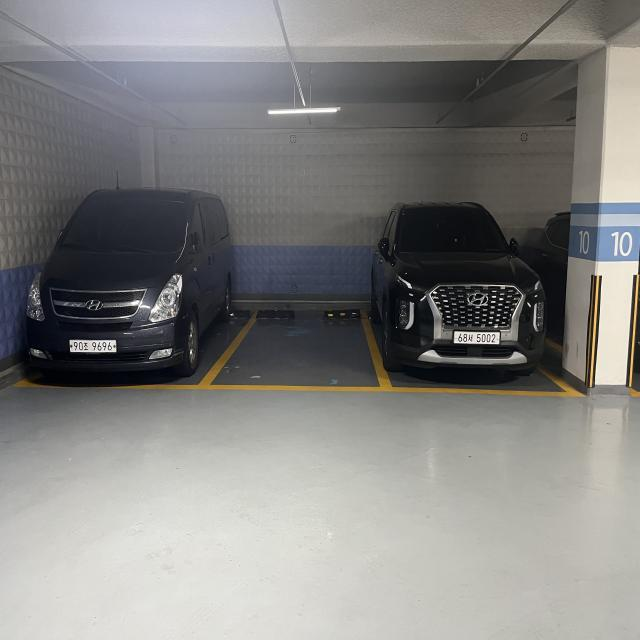empty: (212, 307, 381, 383)
occupied: (15, 172, 215, 396), (372, 190, 578, 402)
